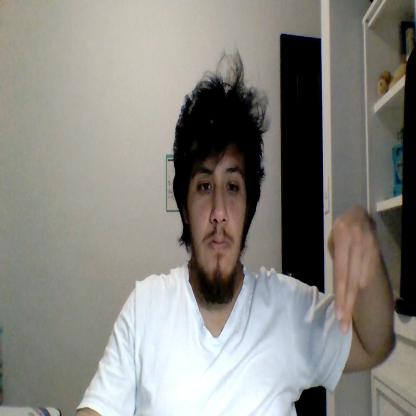N: (328, 205, 380, 334)
